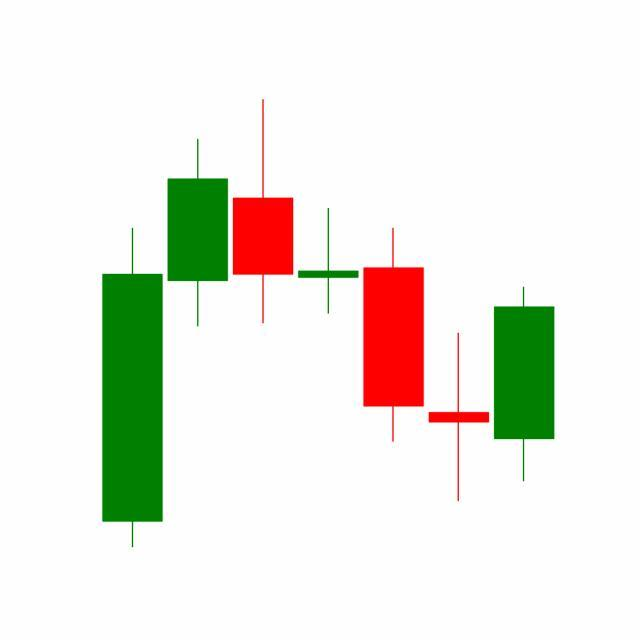Three Outside Up-Down: (295, 205, 492, 506)
